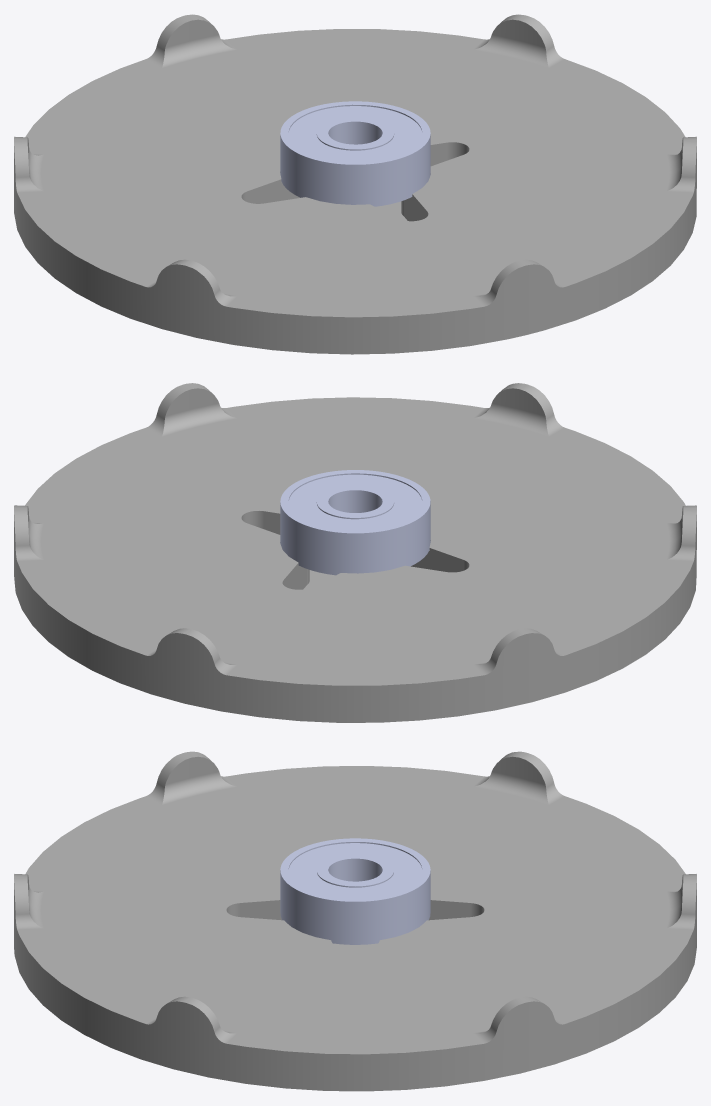
Rendered from Stationary.obj.
3 views of the same model, one above another, from view 1: azimuth 30°, elevation 25°; view 2: azimuth 150°, elevation 25°; view 3: azimuth 270°, elevation 25° (orthographic).
Parts seen in each view (by area): view 1: mesh 2 Base-1, mesh 1 Bearing_22_7-1; view 2: mesh 2 Base-1, mesh 1 Bearing_22_7-1; view 3: mesh 2 Base-1, mesh 1 Bearing_22_7-1.
Part boxes in pixels (bbox=[...]): mesh 2 Base-1: bbox=[14, 14, 696, 354]; mesh 1 Bearing_22_7-1: bbox=[280, 101, 430, 206]; mesh 2 Base-1: bbox=[14, 383, 696, 722]; mesh 1 Bearing_22_7-1: bbox=[280, 470, 430, 575]; mesh 2 Base-1: bbox=[14, 751, 696, 1091]; mesh 1 Bearing_22_7-1: bbox=[280, 838, 430, 944].
Bounding box in the file's own units: 0.1 × 0.0125 × 0.1.
